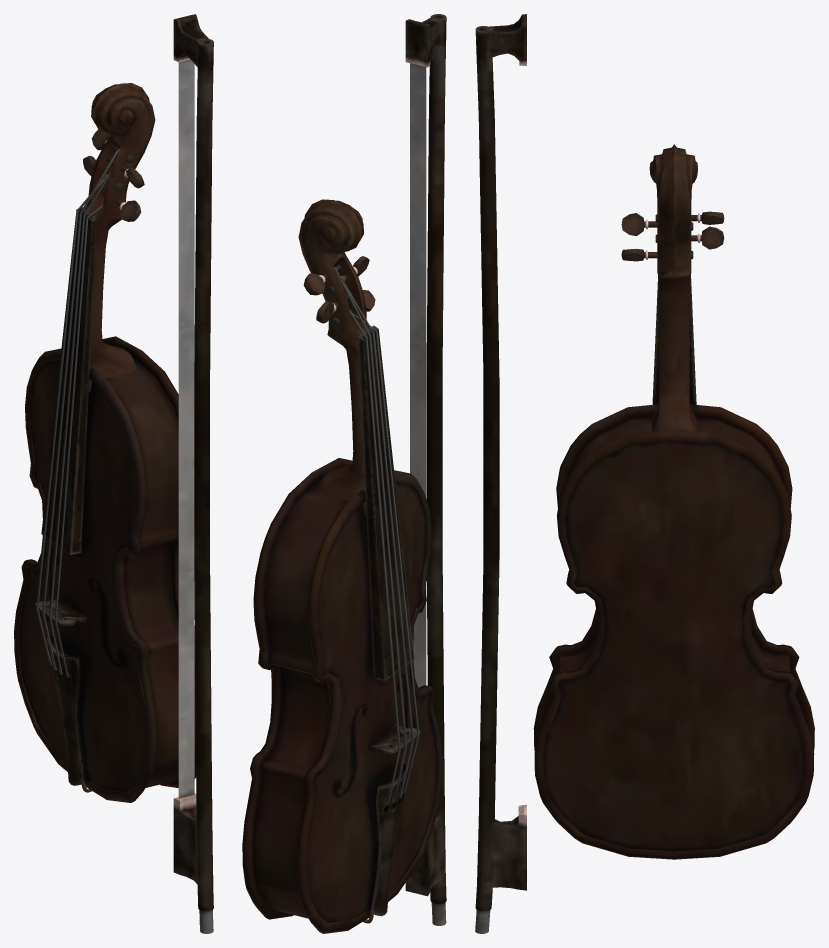
File: obj_old_violin.glb
3 views of the same model, side by side, from view 1: azimuth 30°, elevation 25°; view 2: azimuth 150°, elevation 25°; view 3: azimuth 270°, elevation 25° (orthographic). The views are drawn at different scales.
Parts seen in each view (by area): view 1: Object_2; view 2: Object_2; view 3: Object_2.
Part boxes in pixels (x1,y1,x2,y2): Object_2: (14, 14, 213, 933); Object_2: (242, 14, 446, 933); Object_2: (475, 14, 814, 933).
Size of the model in its own units: 0.0743 by 0.6 by 0.2027.
3 materials, 3 textured.
